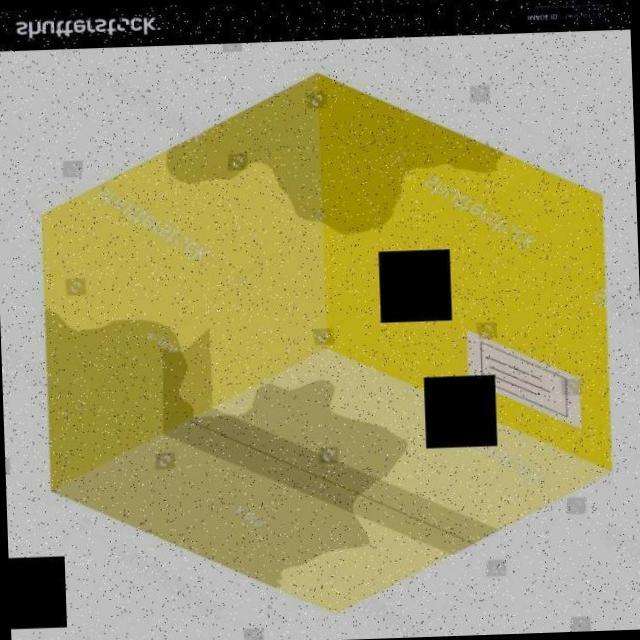box: (29, 63, 624, 626)
